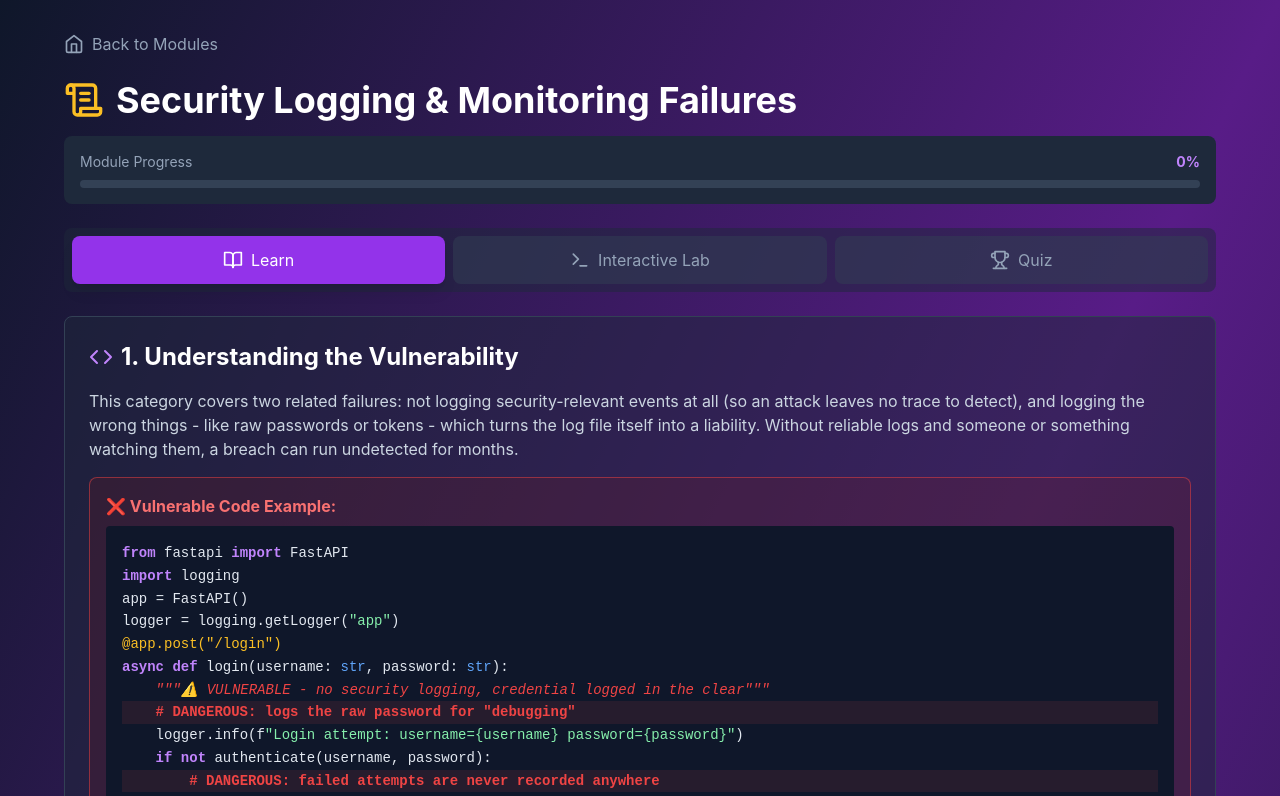
Test: LoggingFailuresModule log-review lab › approves a well-formed security event log
Click the button "Interactive Lab" at [640, 260], box [453,236,827,284]
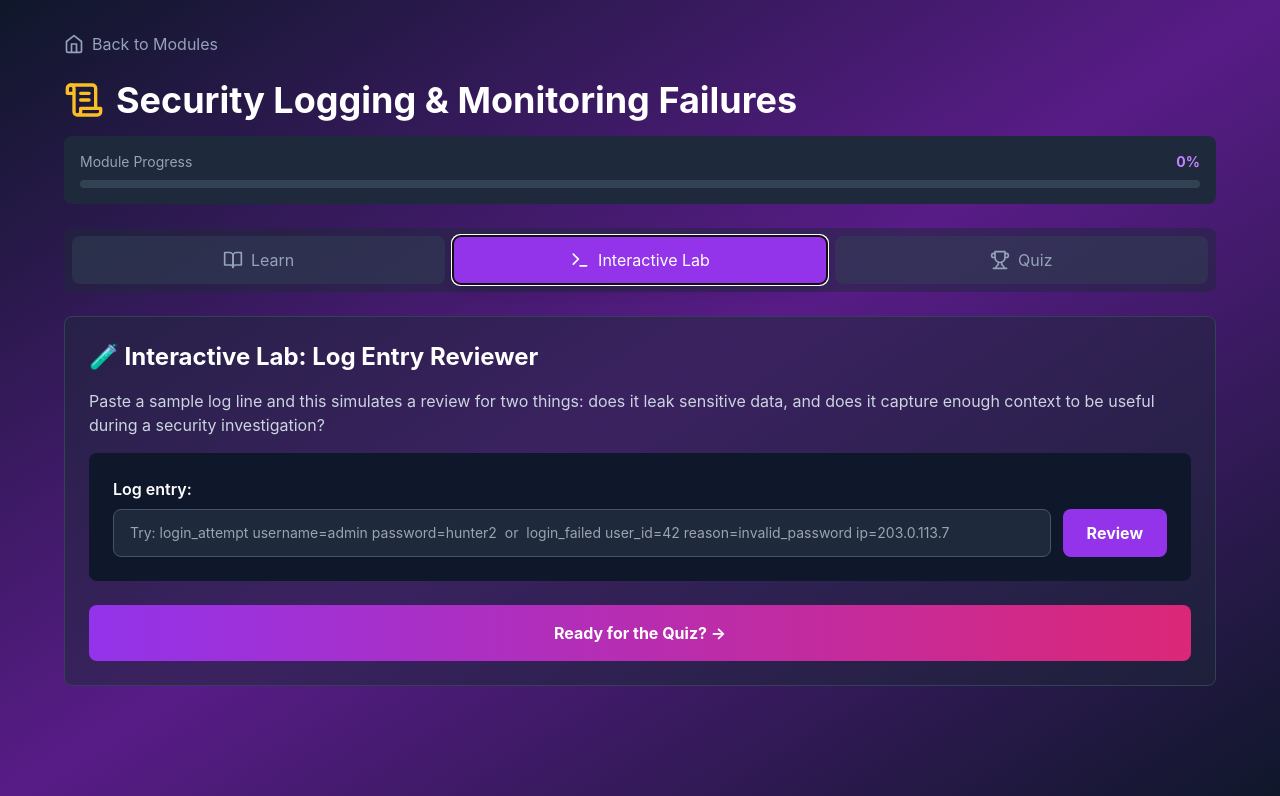
Type "login_failed user_id=42 reason=invalid_password ip=203.0.113.7" into the field with placeholder "login_attempt" at [582, 533], box [113,509,1051,557]
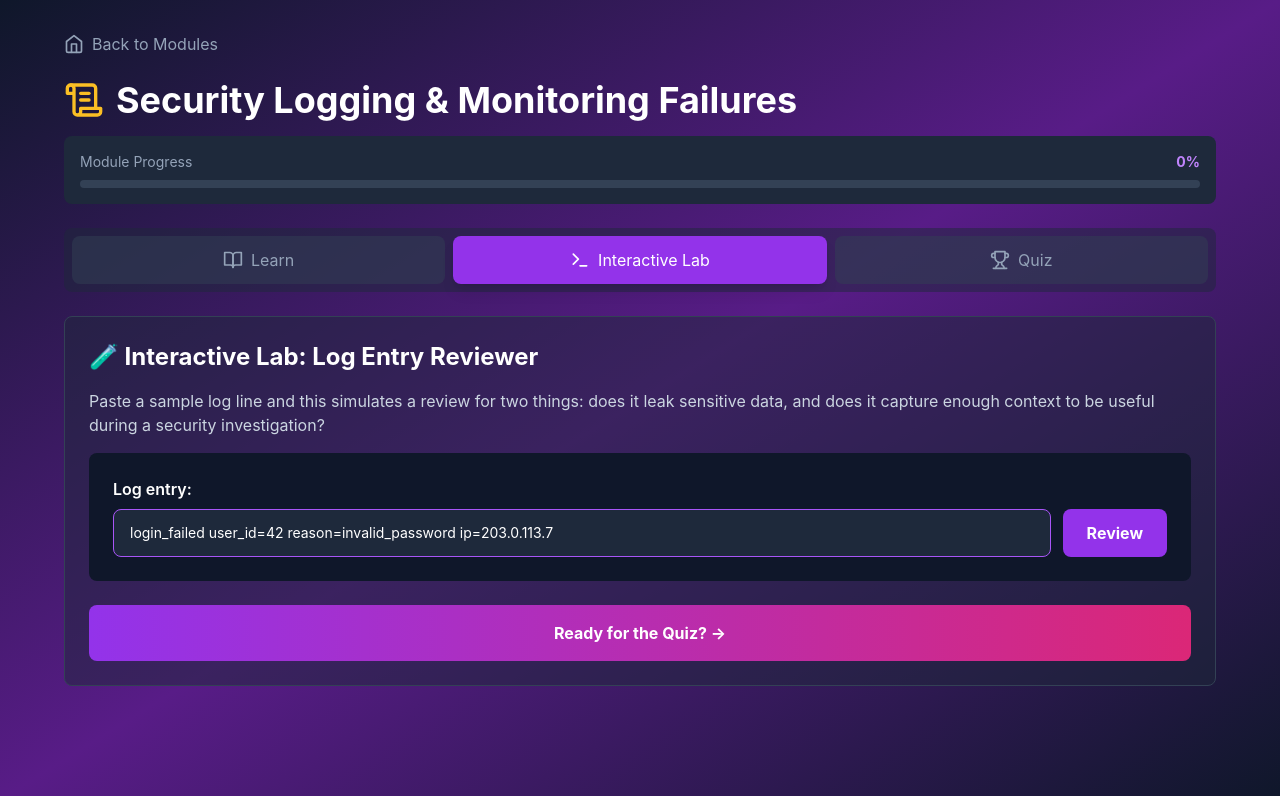
Click the button "Review" at [1115, 533], box [1063,509,1167,557]
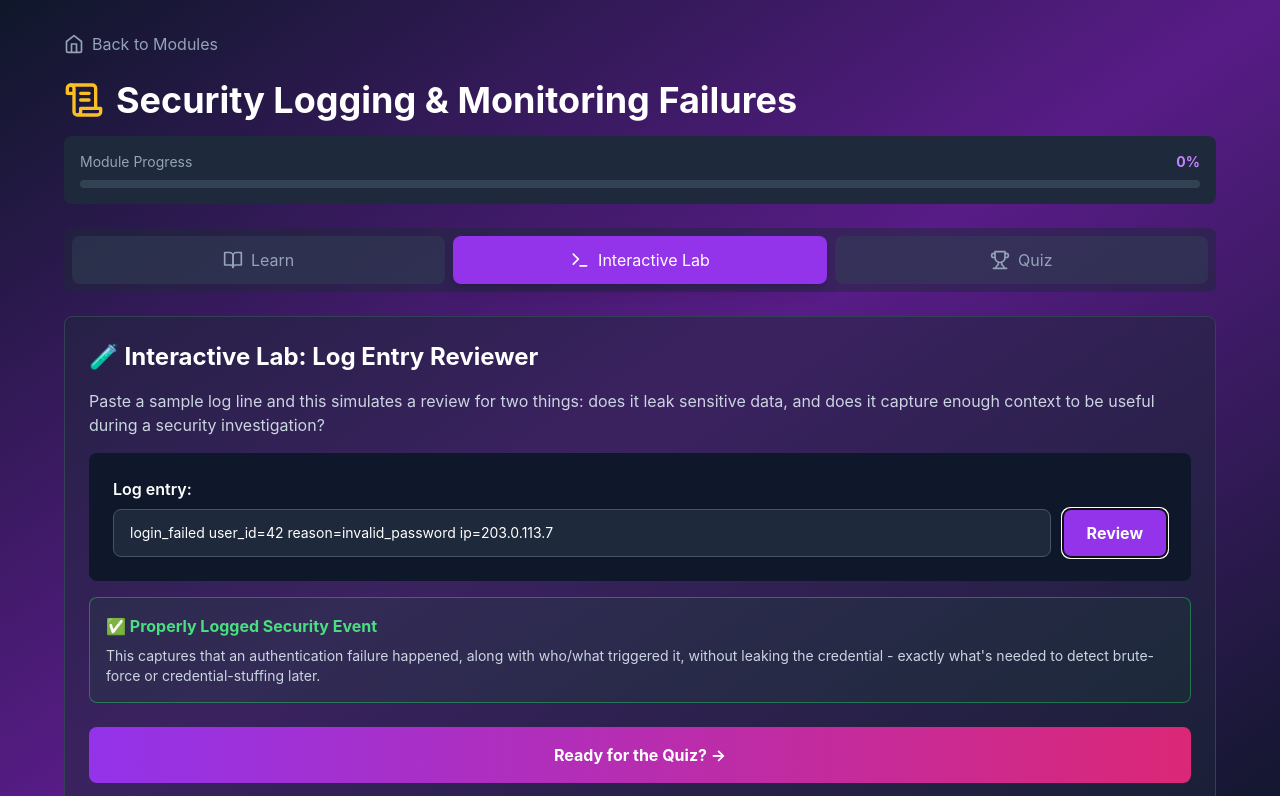
Expected: the text "✅ Properly Logged Security Event" is shown, [106,616,377,636]
